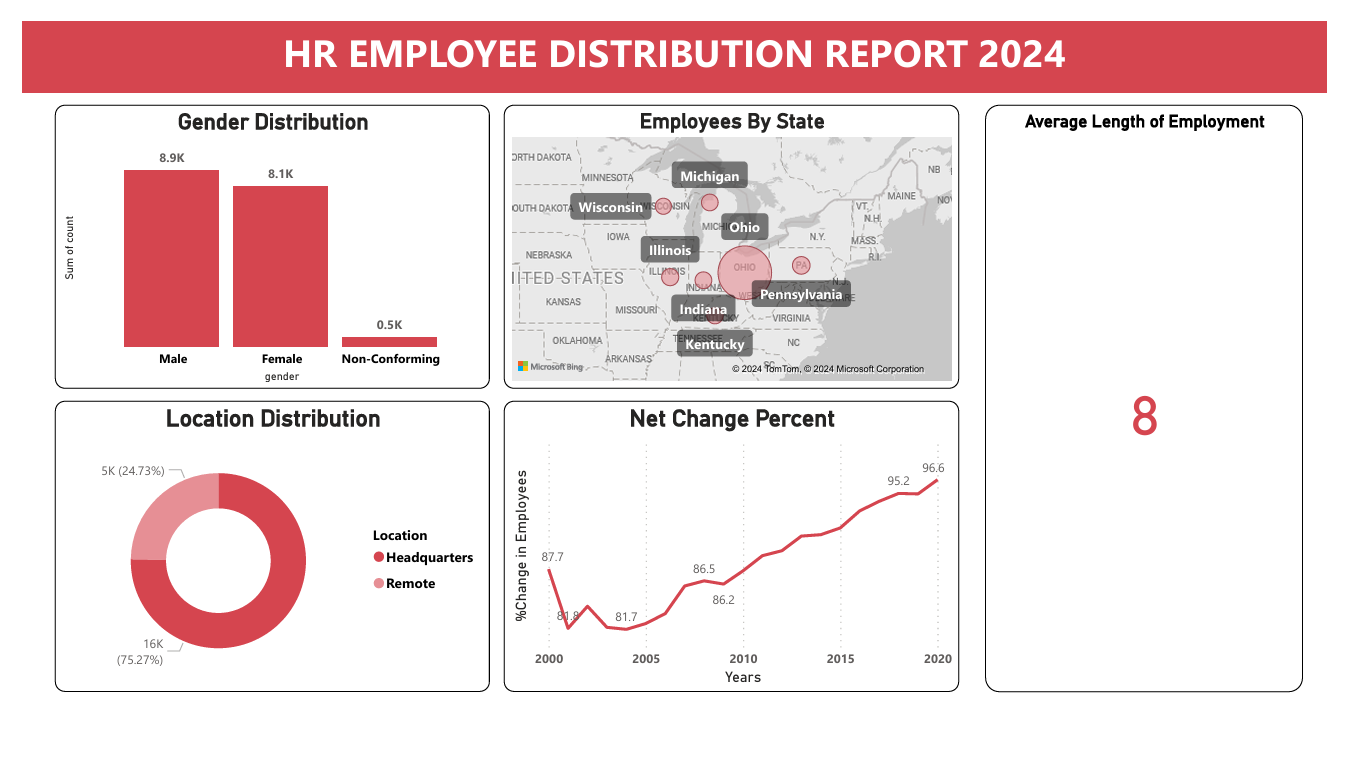

What the dashboard file says about the page in this screenshot:
{"tool":"powerbi","page":{"name":"Page 1","canvas":[1280,720],"ordinal":0},"visuals":[{"type":"textbox","box":[9.7,0,1247.5,68],"z":0},{"type":"textbox","title":"ht","box":[0,0,1280,70],"z":1000},{"type":"card","title":"Average Length of Employment","fields":{"Values":["Sum(Avg_length_Visualization.avg_length_of_employment)"]},"box":[944.9,81.8,311.9,576.9],"z":2000},{"type":"columnChart","title":"Gender Distribution","fields":{"Category":["Gender_Visualization.gender"],"Y":["Sum(Gender_Visualization.count)"]},"box":[31.8,81.8,427,278.6],"z":3000},{"type":"donutChart","title":"Location Distribution","fields":{"Y":["Sum(Location_Visualization.count)"],"Category":["Location_Visualization.location"]},"box":[31.8,372.5,427,286.2],"z":4000},{"type":"lineChart","title":"Net Change Percent","fields":{"Category":["10_visualization.year"],"Y":["Sum(10_visualization.net_change_percent)"]},"box":[472.4,372.5,446.7,286.2],"z":5000},{"type":"map","title":"Employees By State","fields":{"Category":["9_visualization.location_state"],"Size":["Sum(9_visualization.count)"]},"box":[472.4,81.8,446.7,278.6],"z":6000}]}

Visuals, with their boxes in screenshot pixels (x1, y1, x2, y2), scaled from the page's 1280x720 canvas onto the 1348x763 screenshot:
textbox: <box>10,0,1324,72</box>
"ht" textbox: <box>0,0,1347,74</box>
"Average Length of Employment" card: <box>995,87,1324,698</box>
"Gender Distribution" columnChart: <box>33,87,483,382</box>
"Location Distribution" donutChart: <box>33,395,483,698</box>
"Net Change Percent" lineChart: <box>497,395,968,698</box>
"Employees By State" map: <box>497,87,968,382</box>
